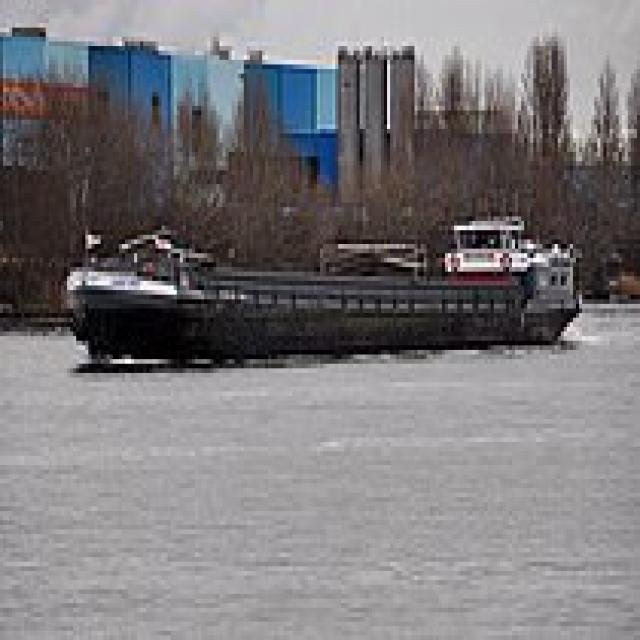Ship: (56, 199, 590, 374)
